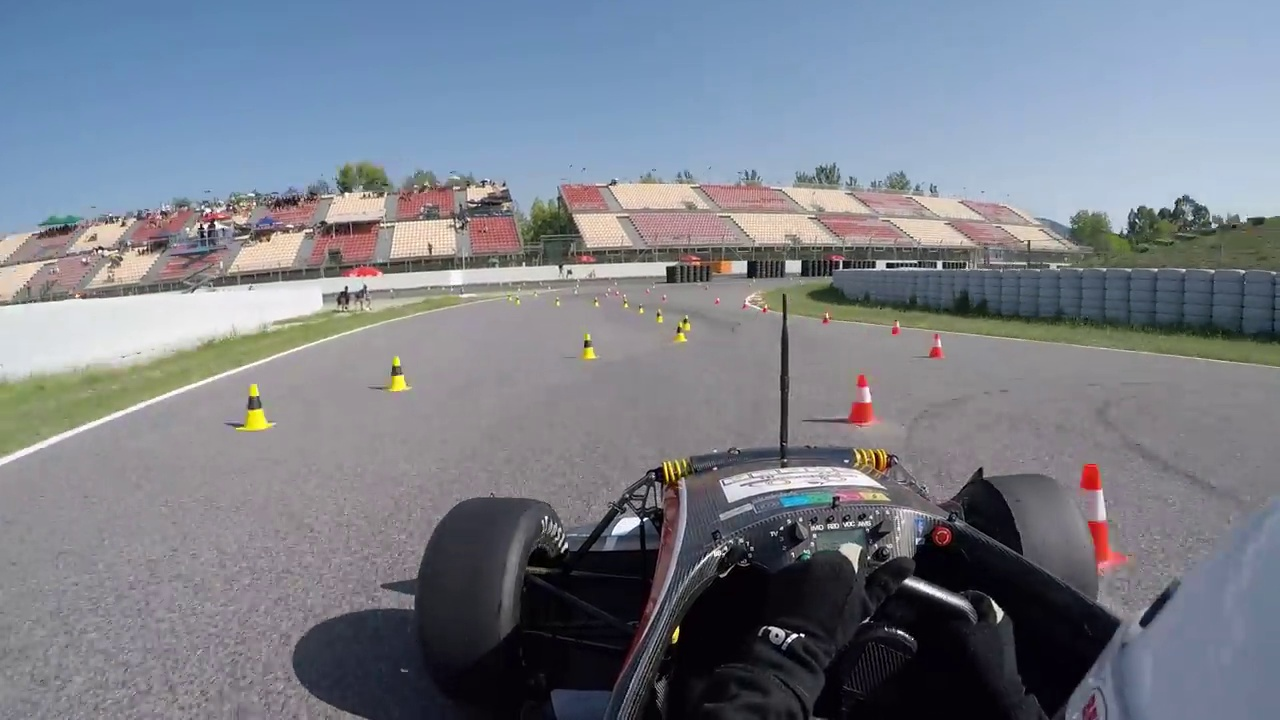Cone: (847, 373, 879, 426), (241, 380, 268, 431), (385, 352, 412, 394), (581, 332, 598, 361)
